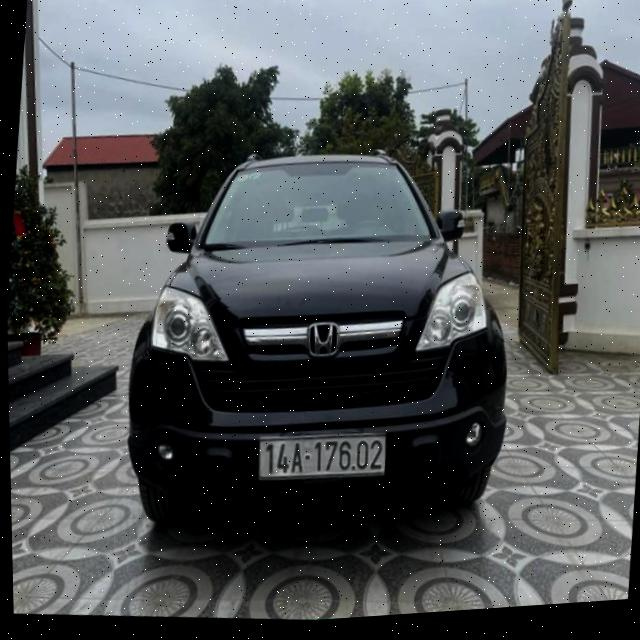car: (112, 121, 525, 570)
plate: (249, 418, 395, 495)
